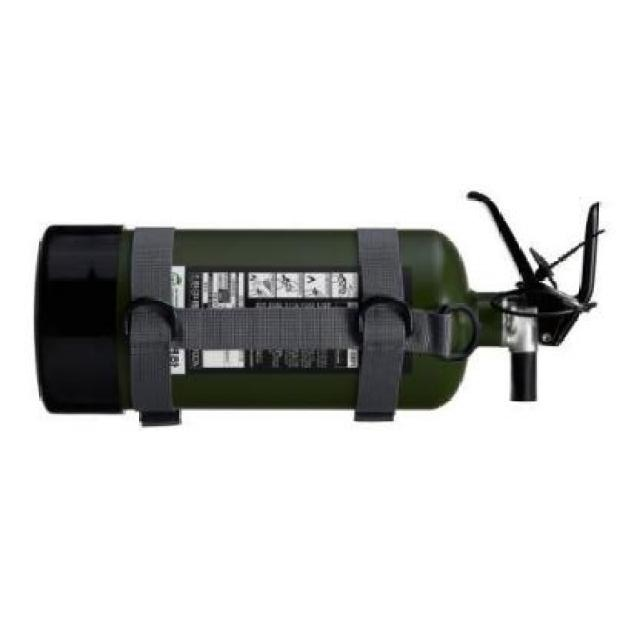fire extinguisher: (36, 191, 601, 427)
